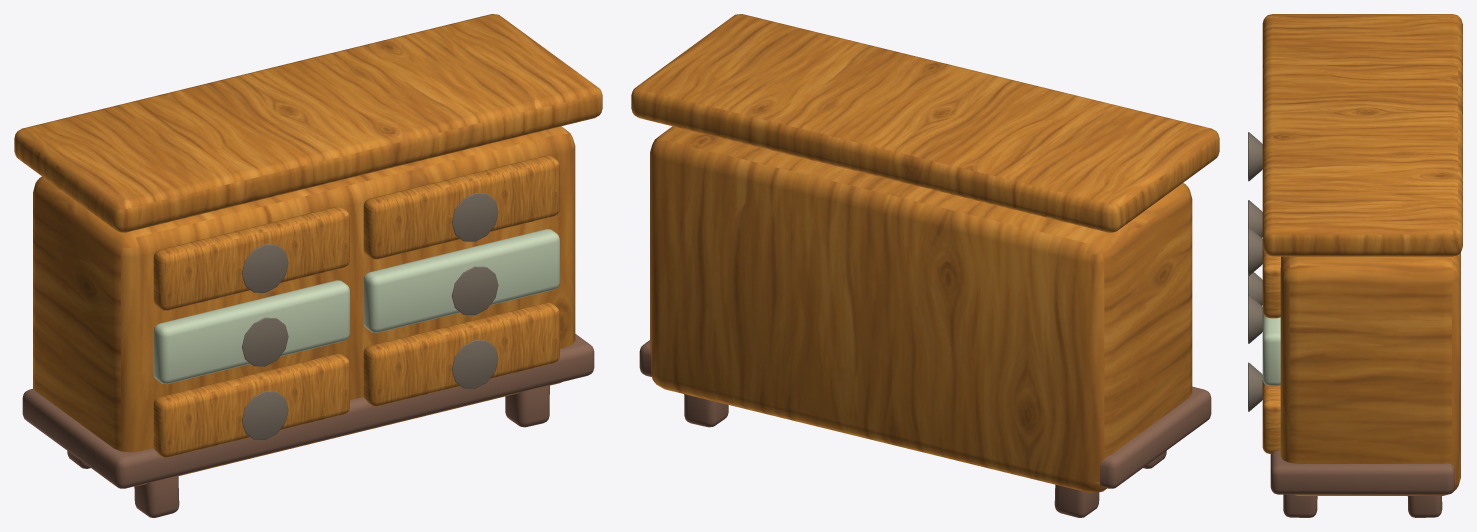
File: dresser.glb
3 renders of one model, left to right at view 1: azimuth 30°, elevation 25°; view 2: azimuth 150°, elevation 25°; view 3: azimuth 270°, elevation 25°, orthographic. The views are drawn at different scales.
Parts seen in each view (by area): view 1: dresser; view 2: dresser; view 3: dresser.
Boxes of the visible parts, x1,y1,x2,y2 form: dresser: (14, 14, 602, 517); dresser: (631, 14, 1219, 517); dresser: (1248, 14, 1462, 517).
Bounding box in the file's own units: 1.3 × 0.8508 × 0.5359.
Materials: 4 (1 with a texture image).
